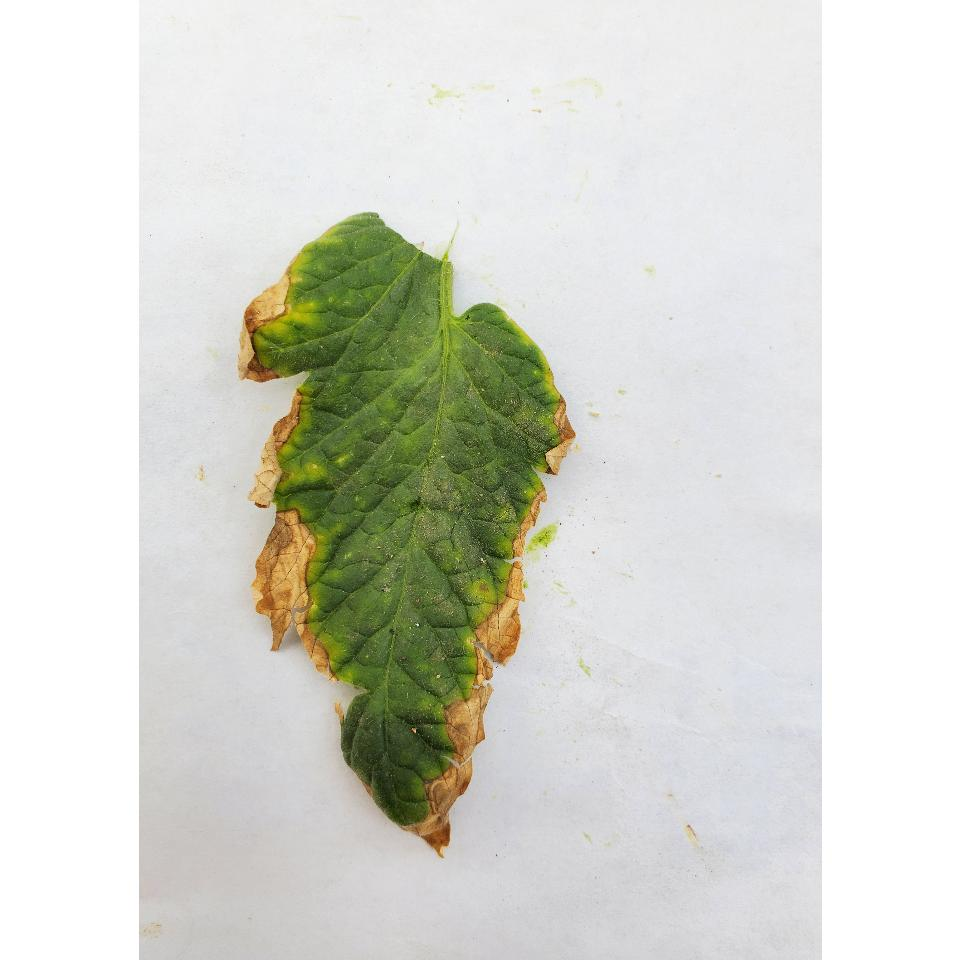tomato_bacterial_blight: (240, 236, 572, 854)
